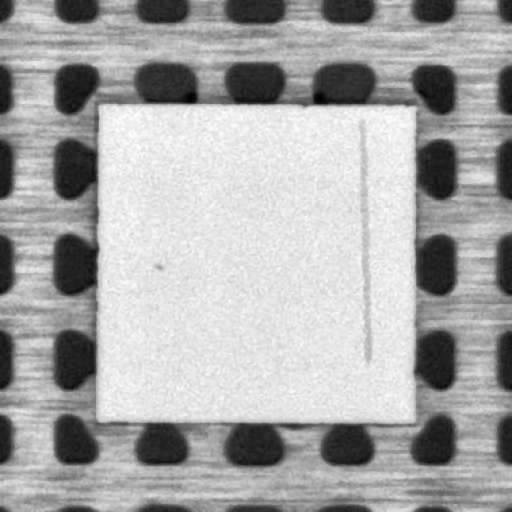DIE_CRACK: (362, 122, 367, 362)
